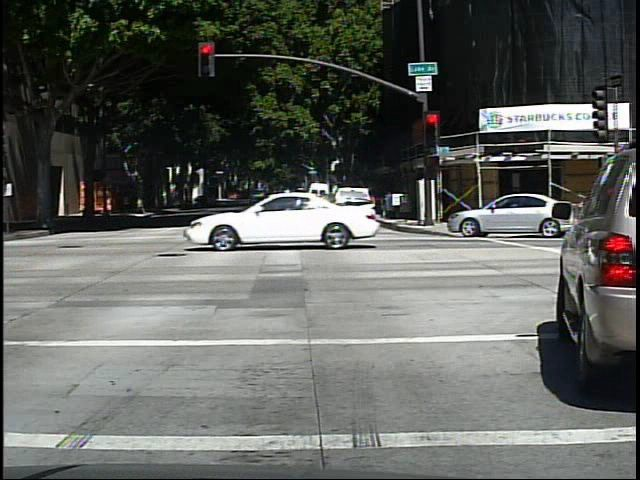person: (83, 186, 100, 220)
